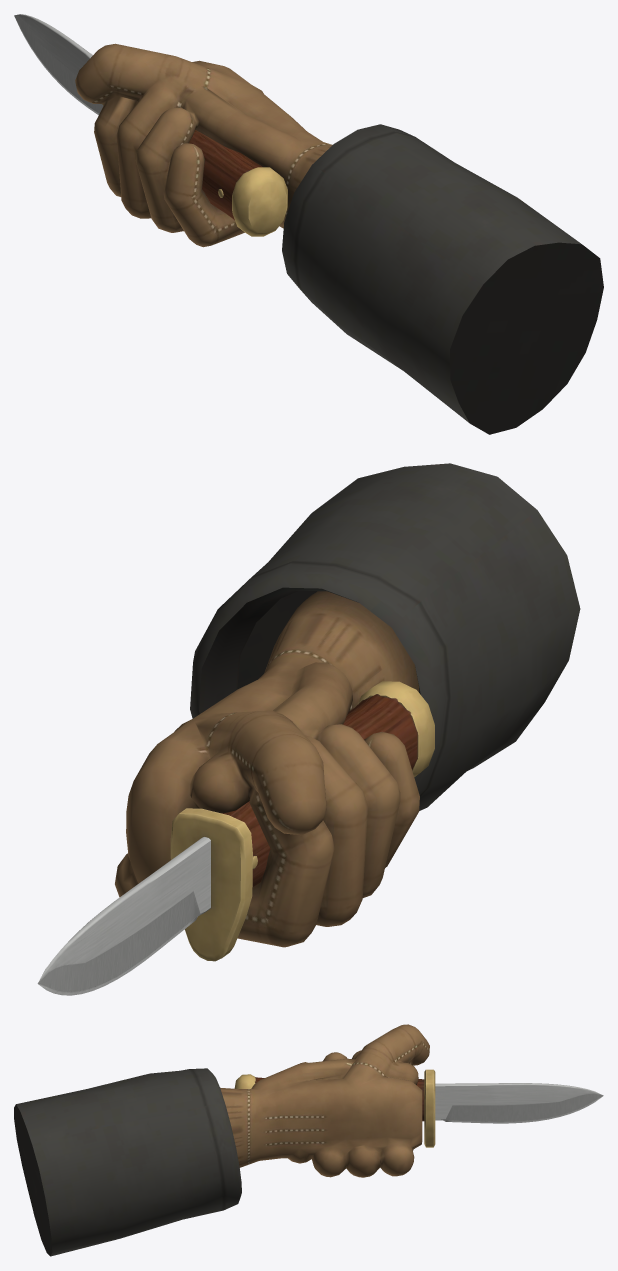
Rendered from skinning-knife.glb.
The picture shows the model from 3 angles, top to bottom: view 1: azimuth 30°, elevation 25°; view 2: azimuth 150°, elevation 25°; view 3: azimuth 270°, elevation 25°; orthographic projection. The views are drawn at different scales.
Parts seen in each view (by area): view 1: knife_hand; view 2: knife_hand; view 3: knife_hand.
Boxes of the visible parts, x1=… form: knife_hand: x1=14, y1=14, x2=603, y2=434; knife_hand: x1=37, y1=463, x2=580, y2=995; knife_hand: x1=14, y1=1024, x2=603, y2=1256.
Bounding box in the file's own units: 0.1344 × 0.1131 × 0.3506.
Materials: 1 (1 with a texture image).
